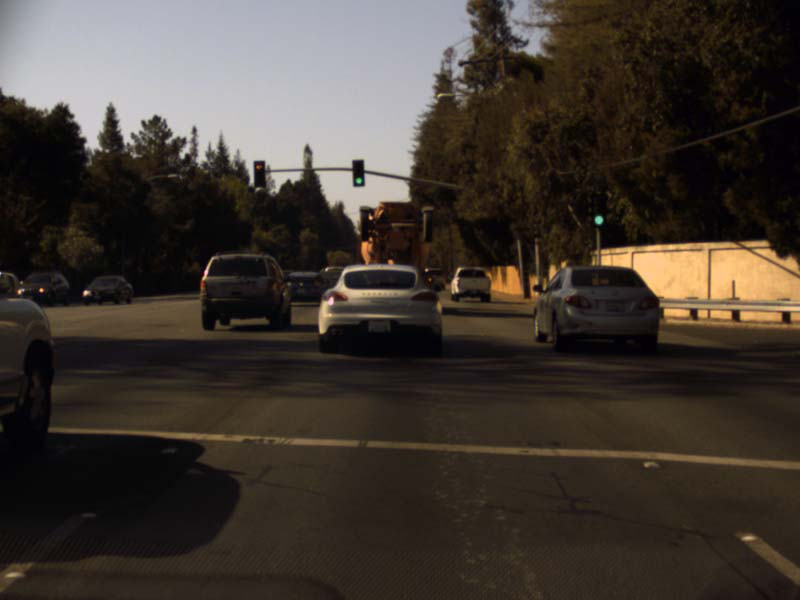Green: (591, 193, 606, 226), (351, 160, 364, 187)
Red: (253, 160, 264, 186)
